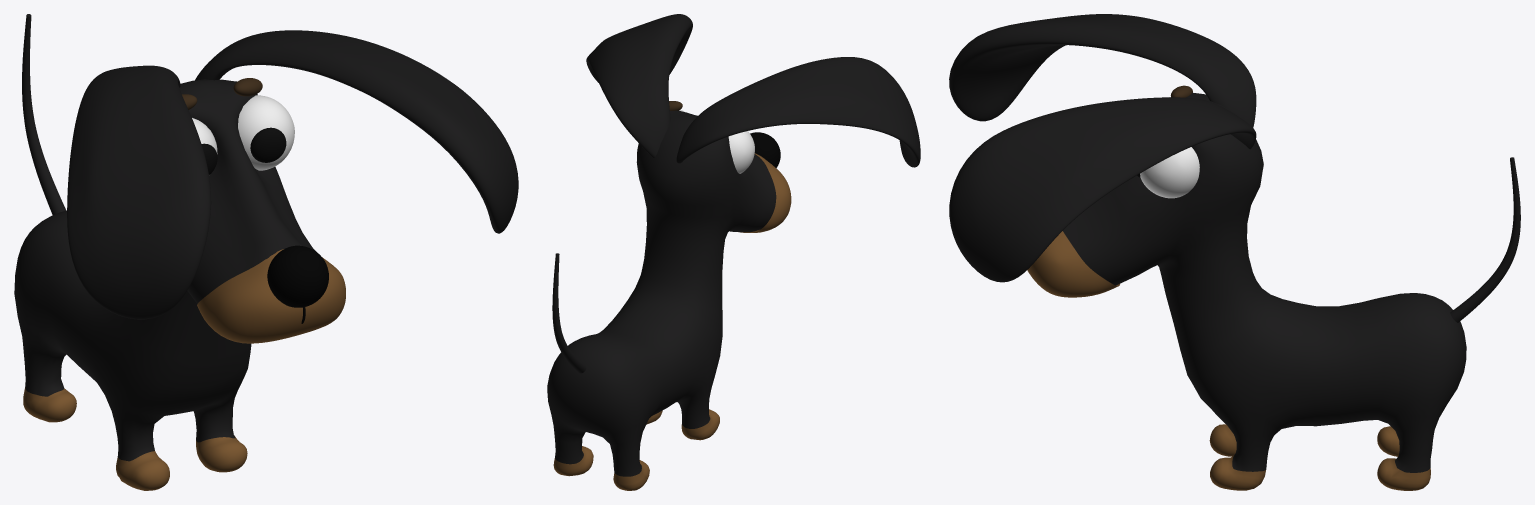
The model's file is dachshund_s_fab.fbx.
3 views of the same model, side by side, from view 1: azimuth 30°, elevation 25°; view 2: azimuth 150°, elevation 25°; view 3: azimuth 270°, elevation 25° (orthographic). The views are drawn at different scales.
Parts seen in each view (by area): view 1: Body, Ears_R, Ears_L, Muzzle_2, Nose, Eyes, Tail, Pupils_, Brows; view 2: Body, Ears_R, Ears_L, Muzzle_2, Tail, Eyes, Nose; view 3: Body, Ears_L, Ears_R, Muzzle_2, Eyes, Tail.
Part boxes in pixels (left/top/right/bottom): Body: left=14, top=79, right=316, bottom=490; Ears_R: left=67, top=65, right=211, bottom=319; Ears_L: left=195, top=30, right=518, bottom=233; Muzzle_2: left=197, top=249, right=345, bottom=343; Nose: left=267, top=245, right=328, bottom=307; Eyes: left=192, top=95, right=294, bottom=175; Tail: left=22, top=14, right=66, bottom=214; Pupils_: left=201, top=127, right=286, bottom=174; Brows: left=182, top=78, right=262, bottom=109; Body: left=547, top=110, right=776, bottom=490; Ears_R: left=676, top=57, right=920, bottom=167; Ears_L: left=586, top=14, right=692, bottom=157; Muzzle_2: left=738, top=153, right=791, bottom=232; Tail: left=552, top=253, right=586, bottom=373; Eyes: left=679, top=109, right=754, bottom=173; Nose: left=750, top=132, right=780, bottom=168; Body: left=1063, top=92, right=1466, bottom=490; Ears_L: left=949, top=97, right=1256, bottom=282; Ears_R: left=949, top=14, right=1256, bottom=127; Muzzle_2: left=1027, top=231, right=1119, bottom=297; Eyes: left=1140, top=97, right=1199, bottom=198; Tail: left=1450, top=157, right=1520, bottom=322.
Bounding box in the file's own units: 314 × 307 × 395.
